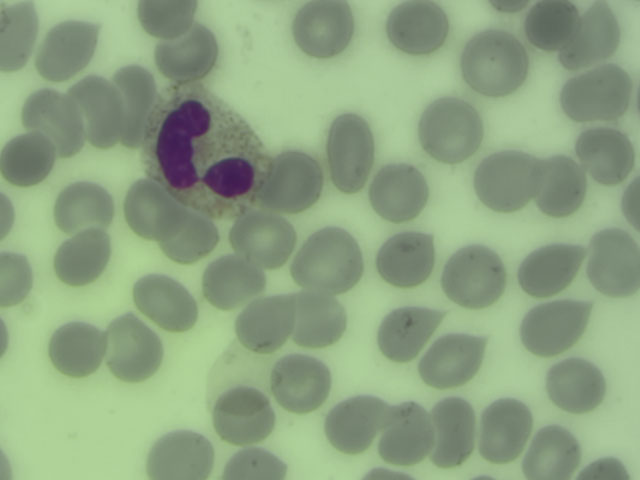RBC: (323, 108, 373, 194), (20, 86, 79, 156), (49, 178, 117, 237), (108, 61, 158, 141), (426, 396, 477, 468), (74, 79, 126, 145), (147, 426, 211, 479), (370, 162, 428, 220), (262, 152, 320, 210), (421, 97, 479, 155), (544, 358, 602, 416), (524, 298, 582, 356), (424, 332, 482, 390), (379, 302, 437, 360), (326, 395, 384, 453), (379, 405, 437, 463), (479, 398, 537, 456), (448, 249, 506, 307), (521, 238, 579, 296), (582, 232, 640, 290), (475, 151, 533, 209), (531, 154, 589, 212), (578, 125, 636, 183), (569, 62, 627, 120), (466, 34, 524, 92), (378, 233, 436, 291), (299, 229, 357, 287), (272, 352, 330, 410), (215, 385, 273, 443), (292, 292, 350, 350), (237, 291, 295, 349), (233, 212, 291, 270), (202, 255, 260, 313), (135, 273, 193, 331), (160, 208, 218, 266), (122, 179, 180, 237), (100, 320, 158, 378), (47, 320, 105, 378), (52, 227, 110, 285), (38, 18, 96, 76), (522, 422, 580, 479), (574, 1, 632, 58), (388, 1, 446, 58), (293, 1, 351, 58), (156, 28, 222, 78), (1, 130, 57, 188), (520, 1, 579, 50), (215, 441, 285, 479), (1, 1, 33, 69), (137, 1, 197, 37), (1, 250, 37, 307), (570, 450, 632, 479)
WBC: (146, 86, 260, 211)
